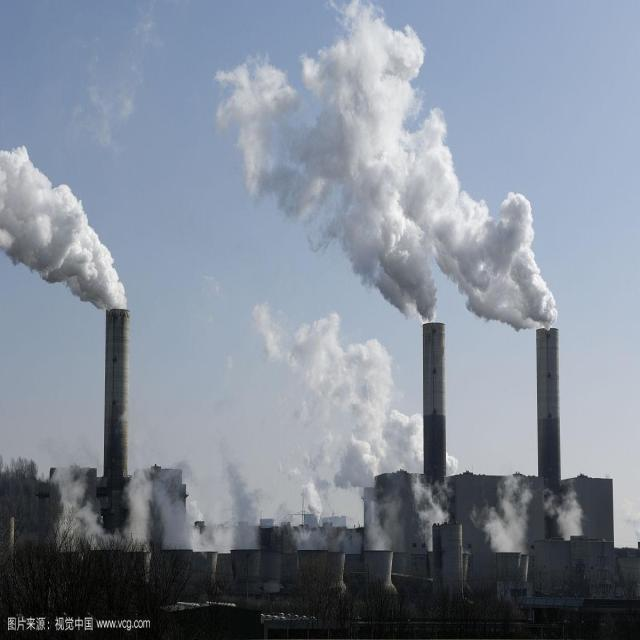Smoke: (212, 0, 558, 333), (42, 300, 461, 554), (0, 144, 128, 312), (468, 466, 538, 554), (538, 478, 590, 541)
